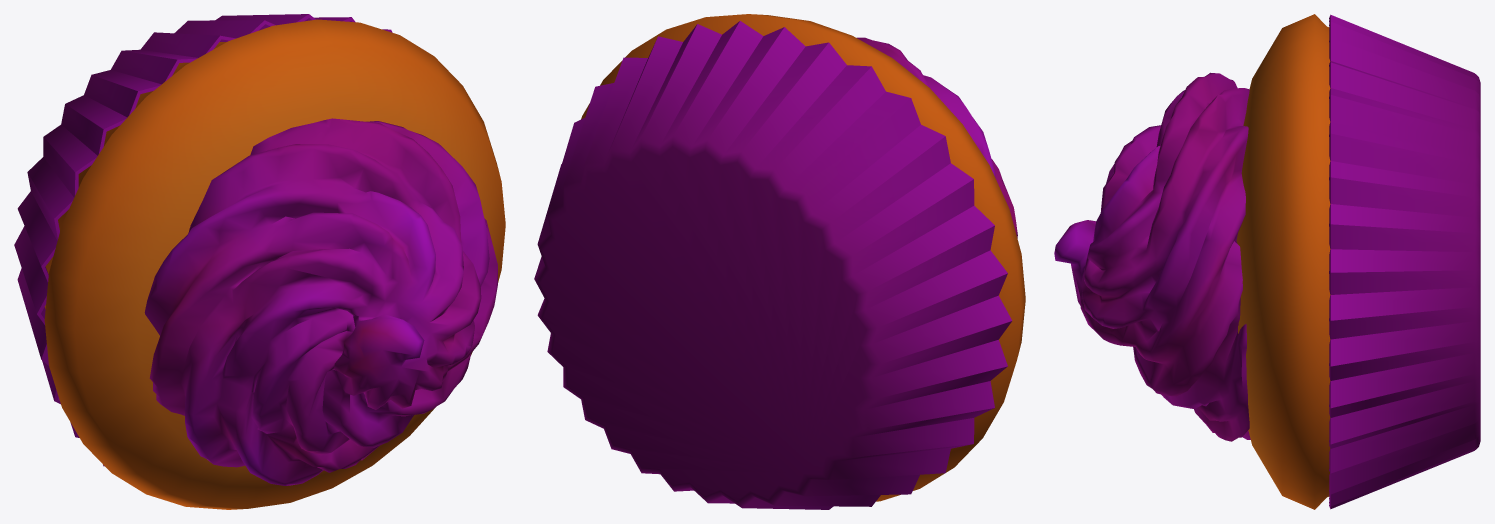
Rendered from Cupcake Tray Sort - Cake 5.fbx.
3 renders of one model, left to right at view 1: azimuth 30°, elevation 25°; view 2: azimuth 150°, elevation 25°; view 3: azimuth 270°, elevation 25°, orthographic. The views are drawn at different scales.
Visible parts, largest first — view 1: 5. cake purple; view 2: 5. cake purple; view 3: 5. cake purple.
Part boxes in pixels (<box>): 5. cake purple: <box>14,14,505,509</box>; 5. cake purple: <box>534,14,1025,509</box>; 5. cake purple: <box>1054,14,1480,509</box>.
Size of the model in its own units: 0.1375 by 0.1375 by 0.1181.
